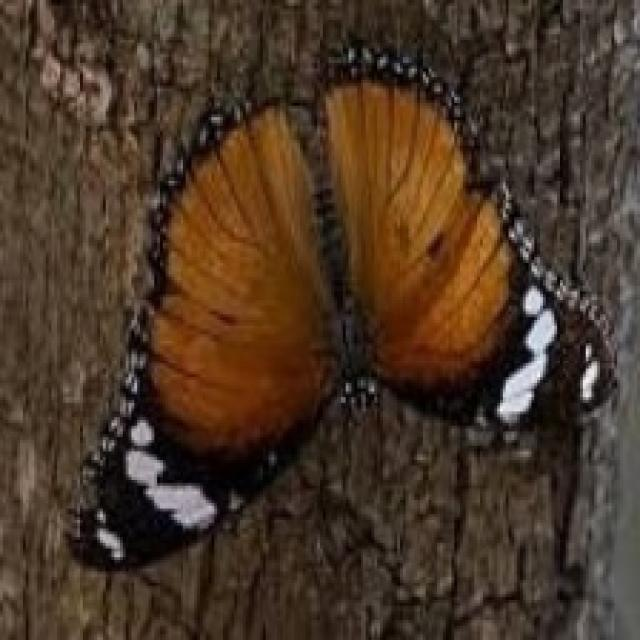butterfly: (63, 37, 620, 572)
